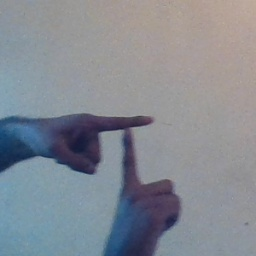T: (73, 104, 177, 213)
